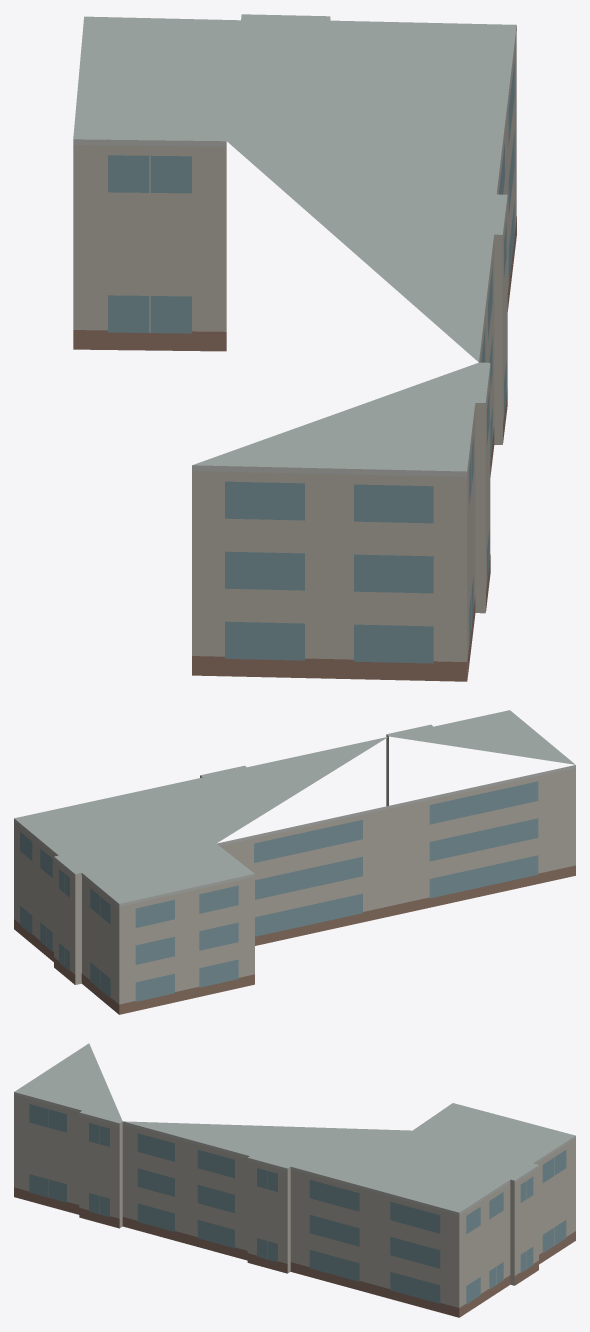
File: survey-upis-32699871.glb
The picture shows the model from 3 angles, top to bottom: view 1: azimuth 30°, elevation 25°; view 2: azimuth 150°, elevation 25°; view 3: azimuth 270°, elevation 25°; orthographic projection. The views are drawn at different scales.
Visible parts, largest first — view 1: survey-upis-32699871.tmp; view 2: survey-upis-32699871.tmp; view 3: survey-upis-32699871.tmp.
Part boxes in pixels (x1=…): survey-upis-32699871.tmp: x1=73, y1=14, x2=516, y2=681; survey-upis-32699871.tmp: x1=14, y1=710, x2=575, y2=1014; survey-upis-32699871.tmp: x1=14, y1=1043, x2=575, y2=1317.
Bounding box in the file's own units: 31.68 × 9.15 × 44.35.
